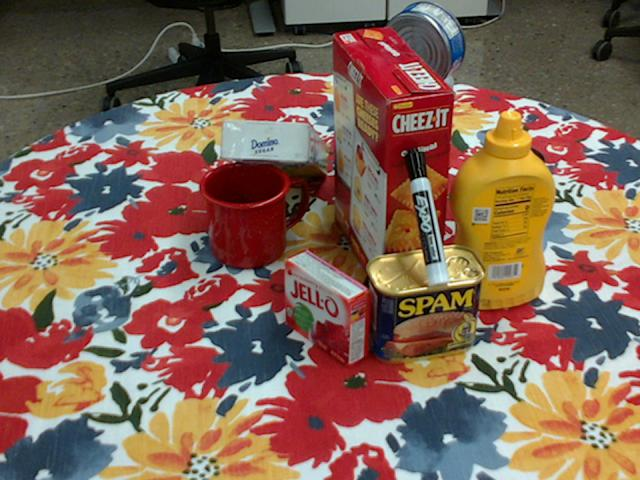cracker_box: (332, 29, 453, 300)
gelatin_box: (285, 248, 371, 365)
large_marker: (402, 147, 451, 285)
master_chef_can: (357, 61, 452, 214)
mug: (200, 160, 311, 268)
mustard_bottle: (444, 110, 555, 309)
potted_meat_can: (367, 245, 488, 364)
sugar_box: (222, 120, 329, 177)
tomato_soup_can: (470, 143, 545, 258)
tuna_fish_can: (380, 2, 464, 89)
